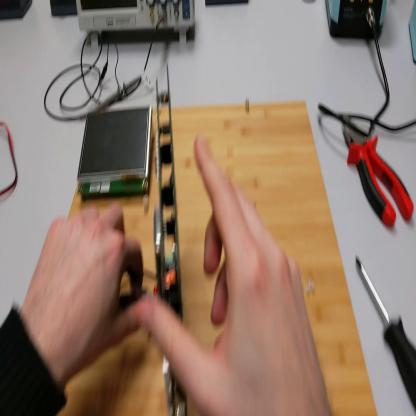hand: (140, 133, 329, 415), (23, 204, 136, 374)
low voltage board: (142, 72, 186, 415)
oscilloscope: (76, 1, 195, 49)
pliers: (343, 115, 414, 228), (121, 265, 151, 302)
screwdriver-: (356, 254, 416, 410)
socket: (2, 2, 34, 23), (51, 1, 79, 21)
welder base: (408, 3, 416, 68)
welder station: (326, 3, 387, 44)
working area: (52, 101, 378, 415)
